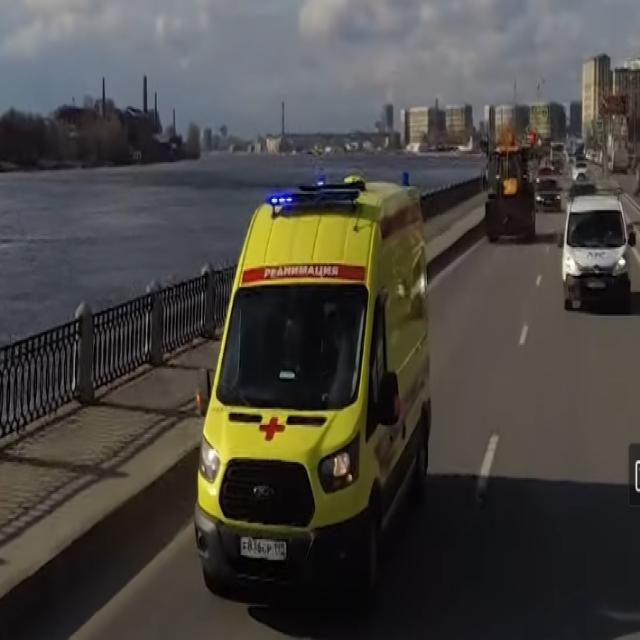intensive care unit: (195, 176, 434, 609)
non emergency car: (563, 193, 631, 313), (487, 134, 538, 248), (538, 176, 563, 213), (572, 160, 590, 184)
